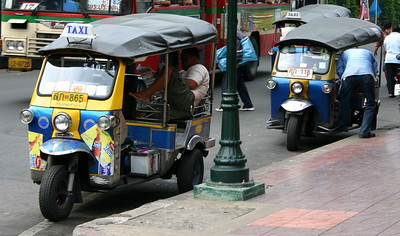threewheel: (20, 13, 217, 221), (268, 19, 384, 151)
